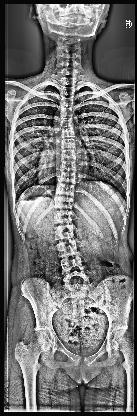Vertebrae: (56, 240, 80, 258), (60, 258, 84, 274), (54, 209, 78, 223), (54, 224, 75, 240), (63, 274, 91, 284), (55, 197, 77, 209), (56, 184, 76, 196), (61, 160, 77, 172), (60, 172, 76, 184), (60, 95, 74, 107), (60, 116, 74, 128), (62, 138, 76, 150), (60, 86, 76, 96), (61, 127, 75, 138), (60, 107, 75, 117), (62, 150, 76, 160), (60, 78, 76, 86)
